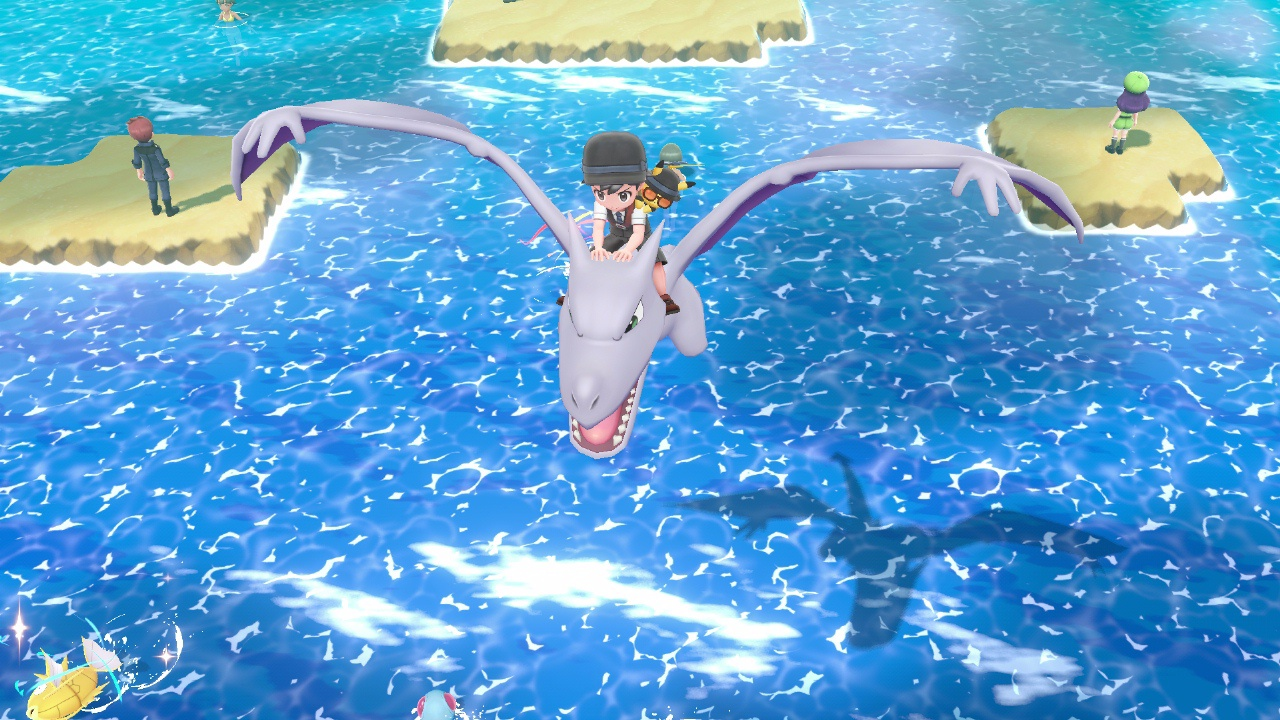Golden: (28, 637, 123, 720)
